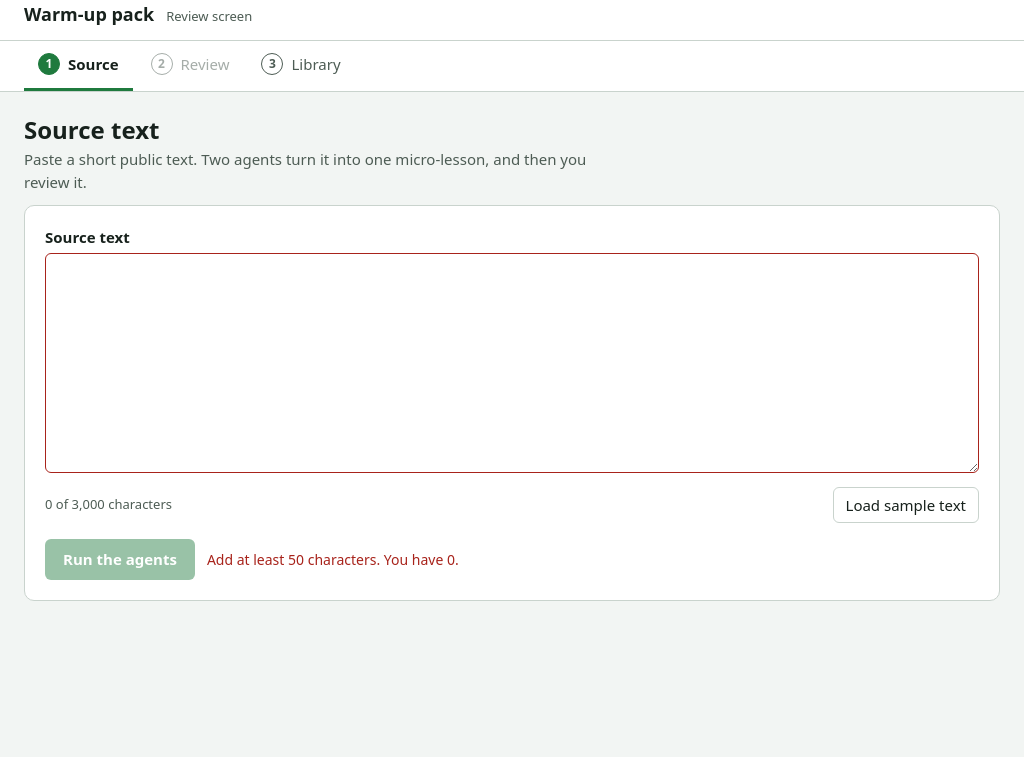
Test: Review screen app › keeps settings, the library and the current lesson after a reload (FR-9)
Later steps or results of the test are not shown.
Click the button "Load sample text" at (906, 505), box [832,487,979,523]
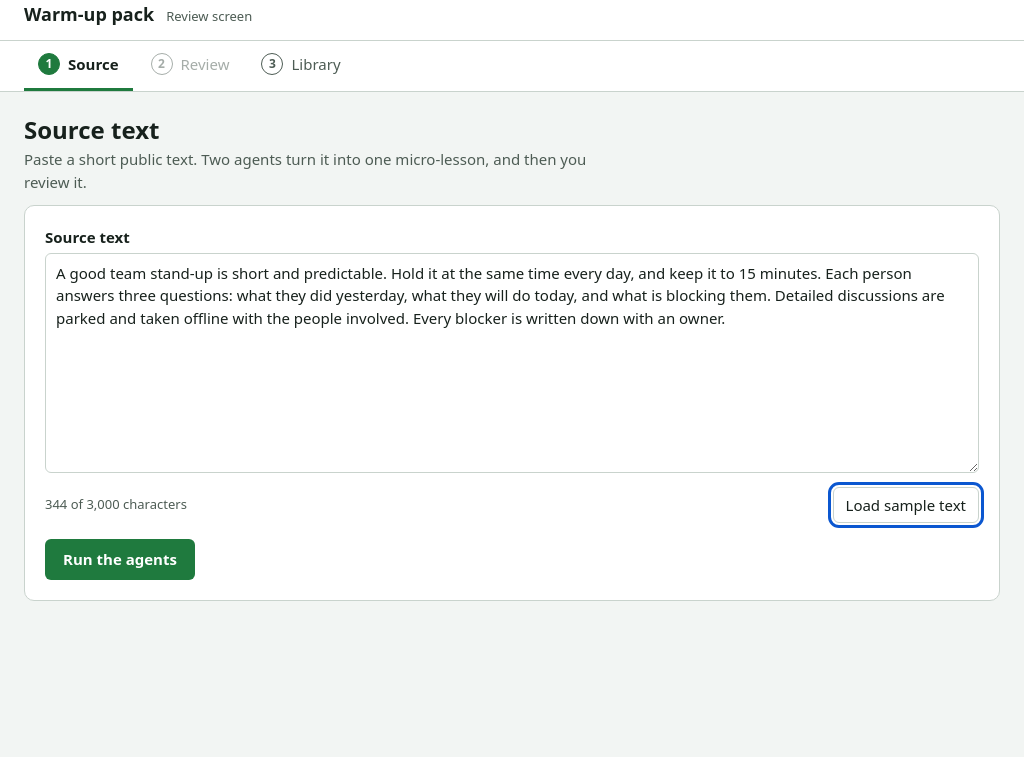
Click the button "Run the agents" at (120, 560), box [45,539,195,580]
(page scrolled)
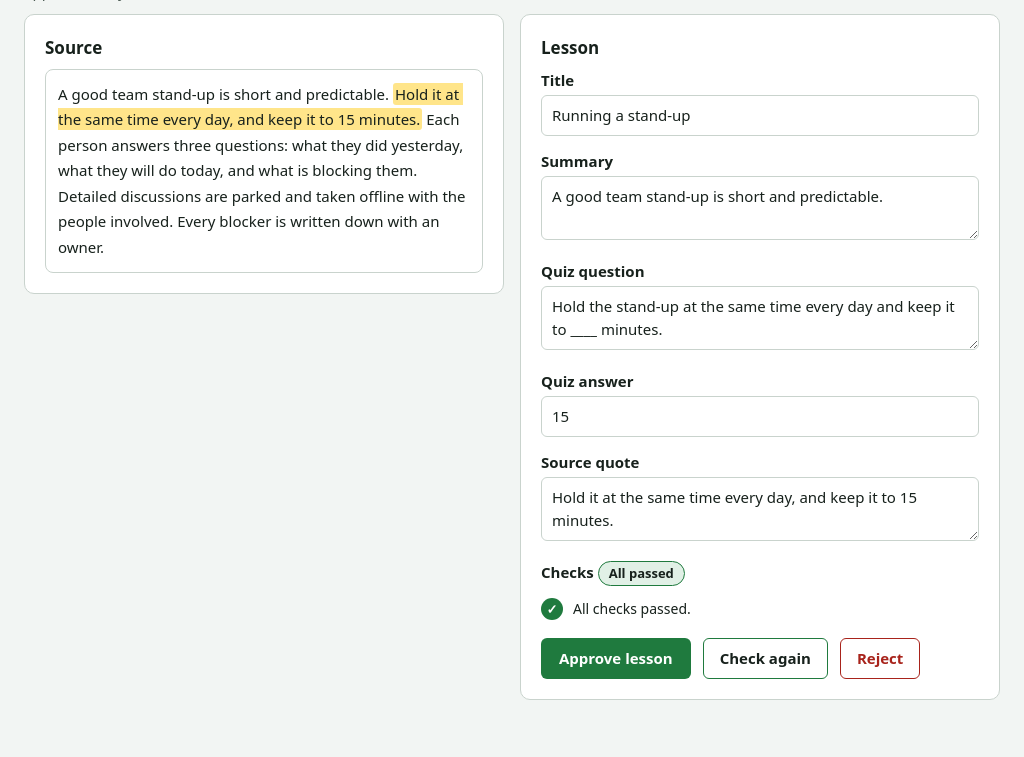
Click the button "Approve lesson" at (616, 659), box [541,638,691,679]
(page scrolled)
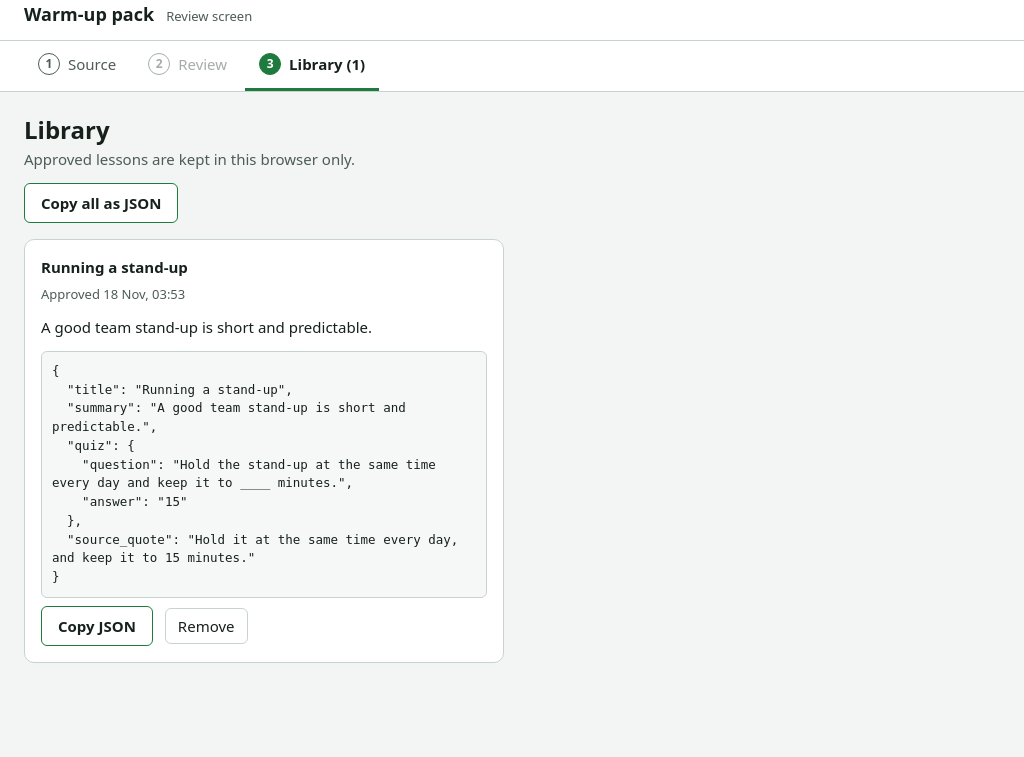
expect the element that starts with "Running a stand-up" is shown: met, box [24,239,504,663]
